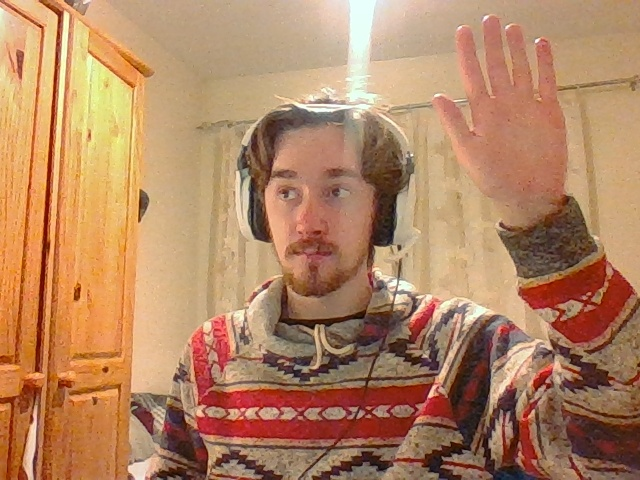hello: (431, 15, 571, 206)
